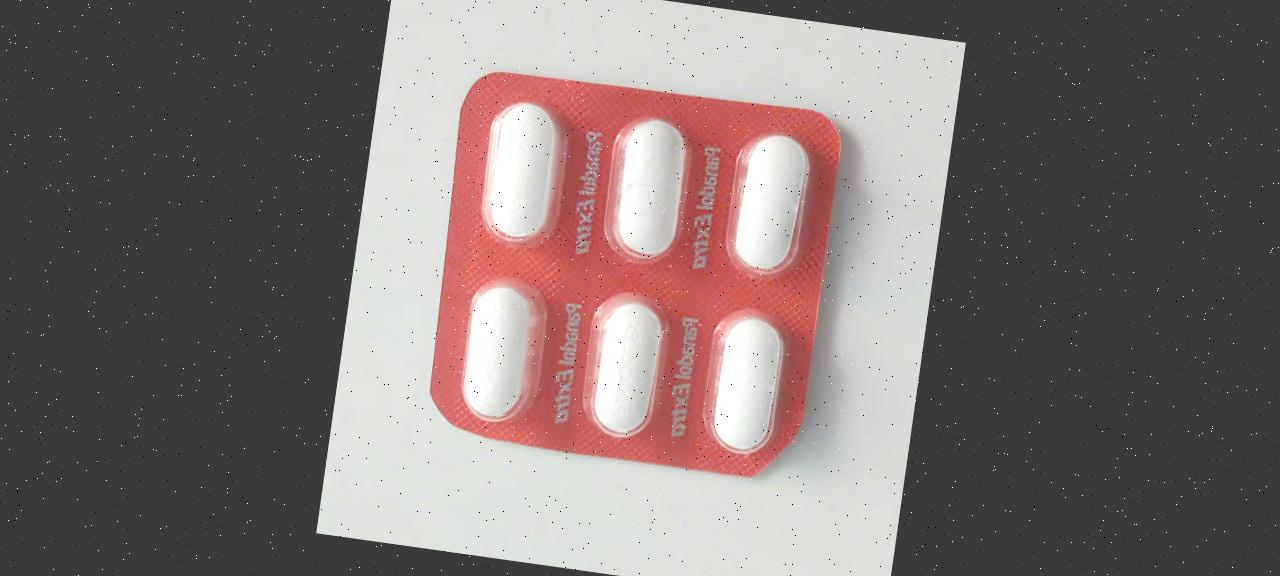Full: (694, 300, 797, 467), (721, 120, 824, 287), (578, 281, 681, 448), (594, 104, 697, 271), (450, 264, 553, 431), (471, 80, 574, 247)
